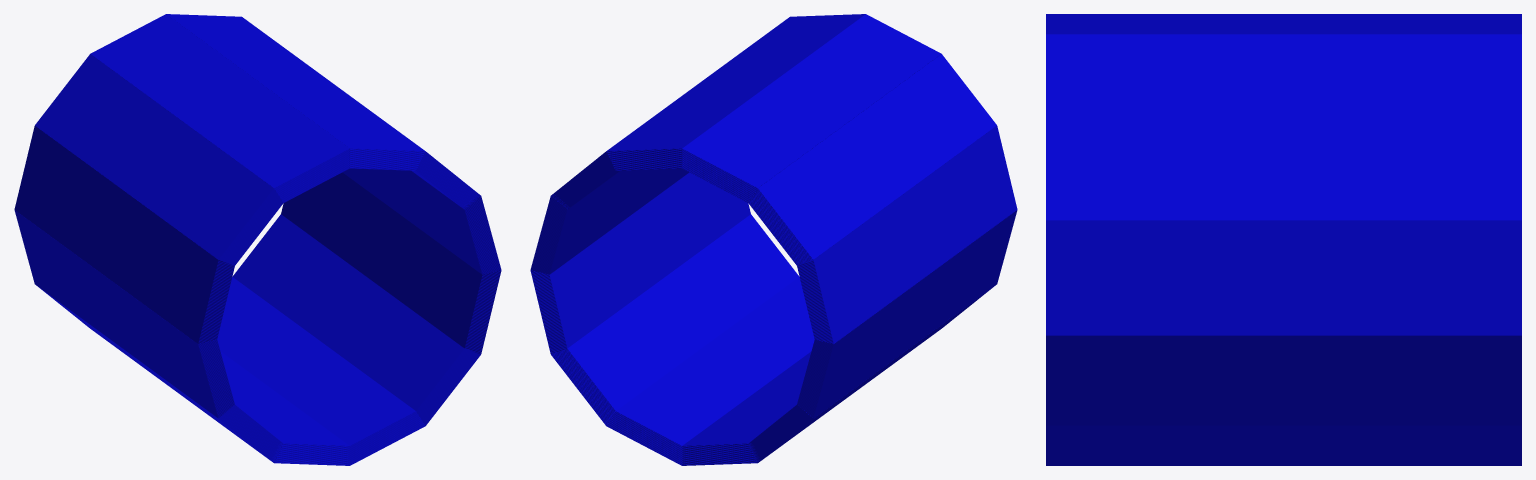
The model's file is ECalBarrel.gltf.
3 renders of one model, left to right at view 1: azimuth 30°, elevation 25°; view 2: azimuth 150°, elevation 25°; view 3: azimuth 270°, elevation 25°, orthographic. The views are drawn at different scales.
Parts seen in each view (by area): view 1: ECalBarrel; view 2: ECalBarrel; view 3: ECalBarrel.
Part boxes in pixels (left/top/right/bottom): ECalBarrel: left=14, top=14, right=501, bottom=465; ECalBarrel: left=530, top=14, right=1017, bottom=465; ECalBarrel: left=1046, top=14, right=1521, bottom=465.
Size of the model in its own units: 4398 by 4398 by 4614.
